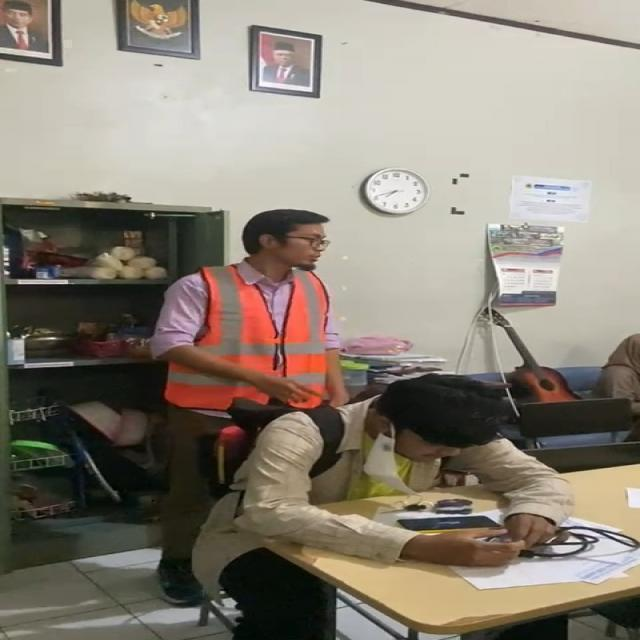no-helmet: (383, 364, 507, 456), (244, 203, 330, 255)
no-vest: (248, 410, 516, 518)
vest: (162, 260, 341, 416)
